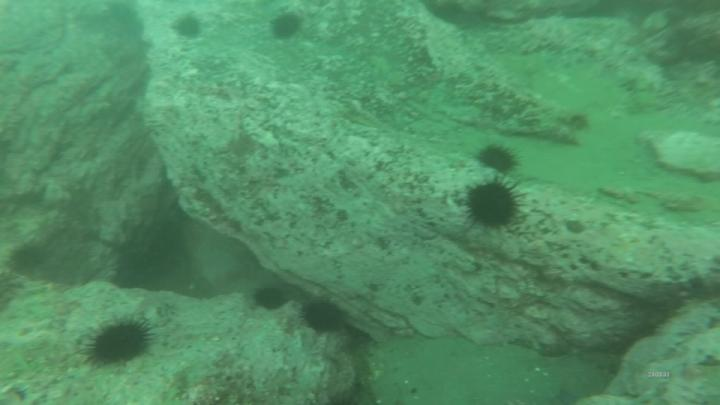echinus: (466, 183, 517, 225), (92, 326, 147, 362), (306, 307, 343, 331), (480, 146, 515, 170), (270, 15, 298, 39), (253, 288, 283, 308), (174, 17, 197, 37)
